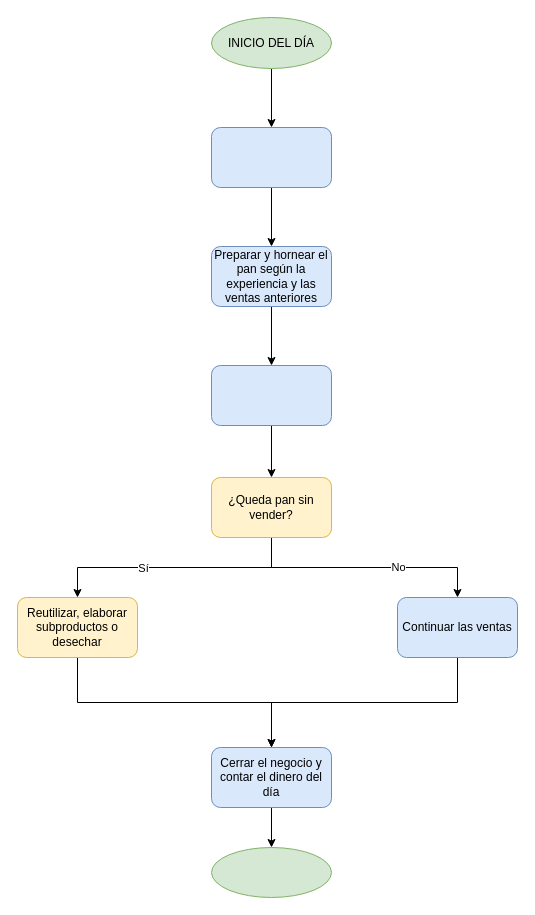
This 535x915 diagram has some shape labels left out. Here are the shapes that lost their labels. From the top down, the centre of each, then its label:
the point at 271,157: Revisar ingredientes y productos disponibles
the point at 271,395: Atender clientes y vender productos
the point at 271,872: FIN DEL DÍA
